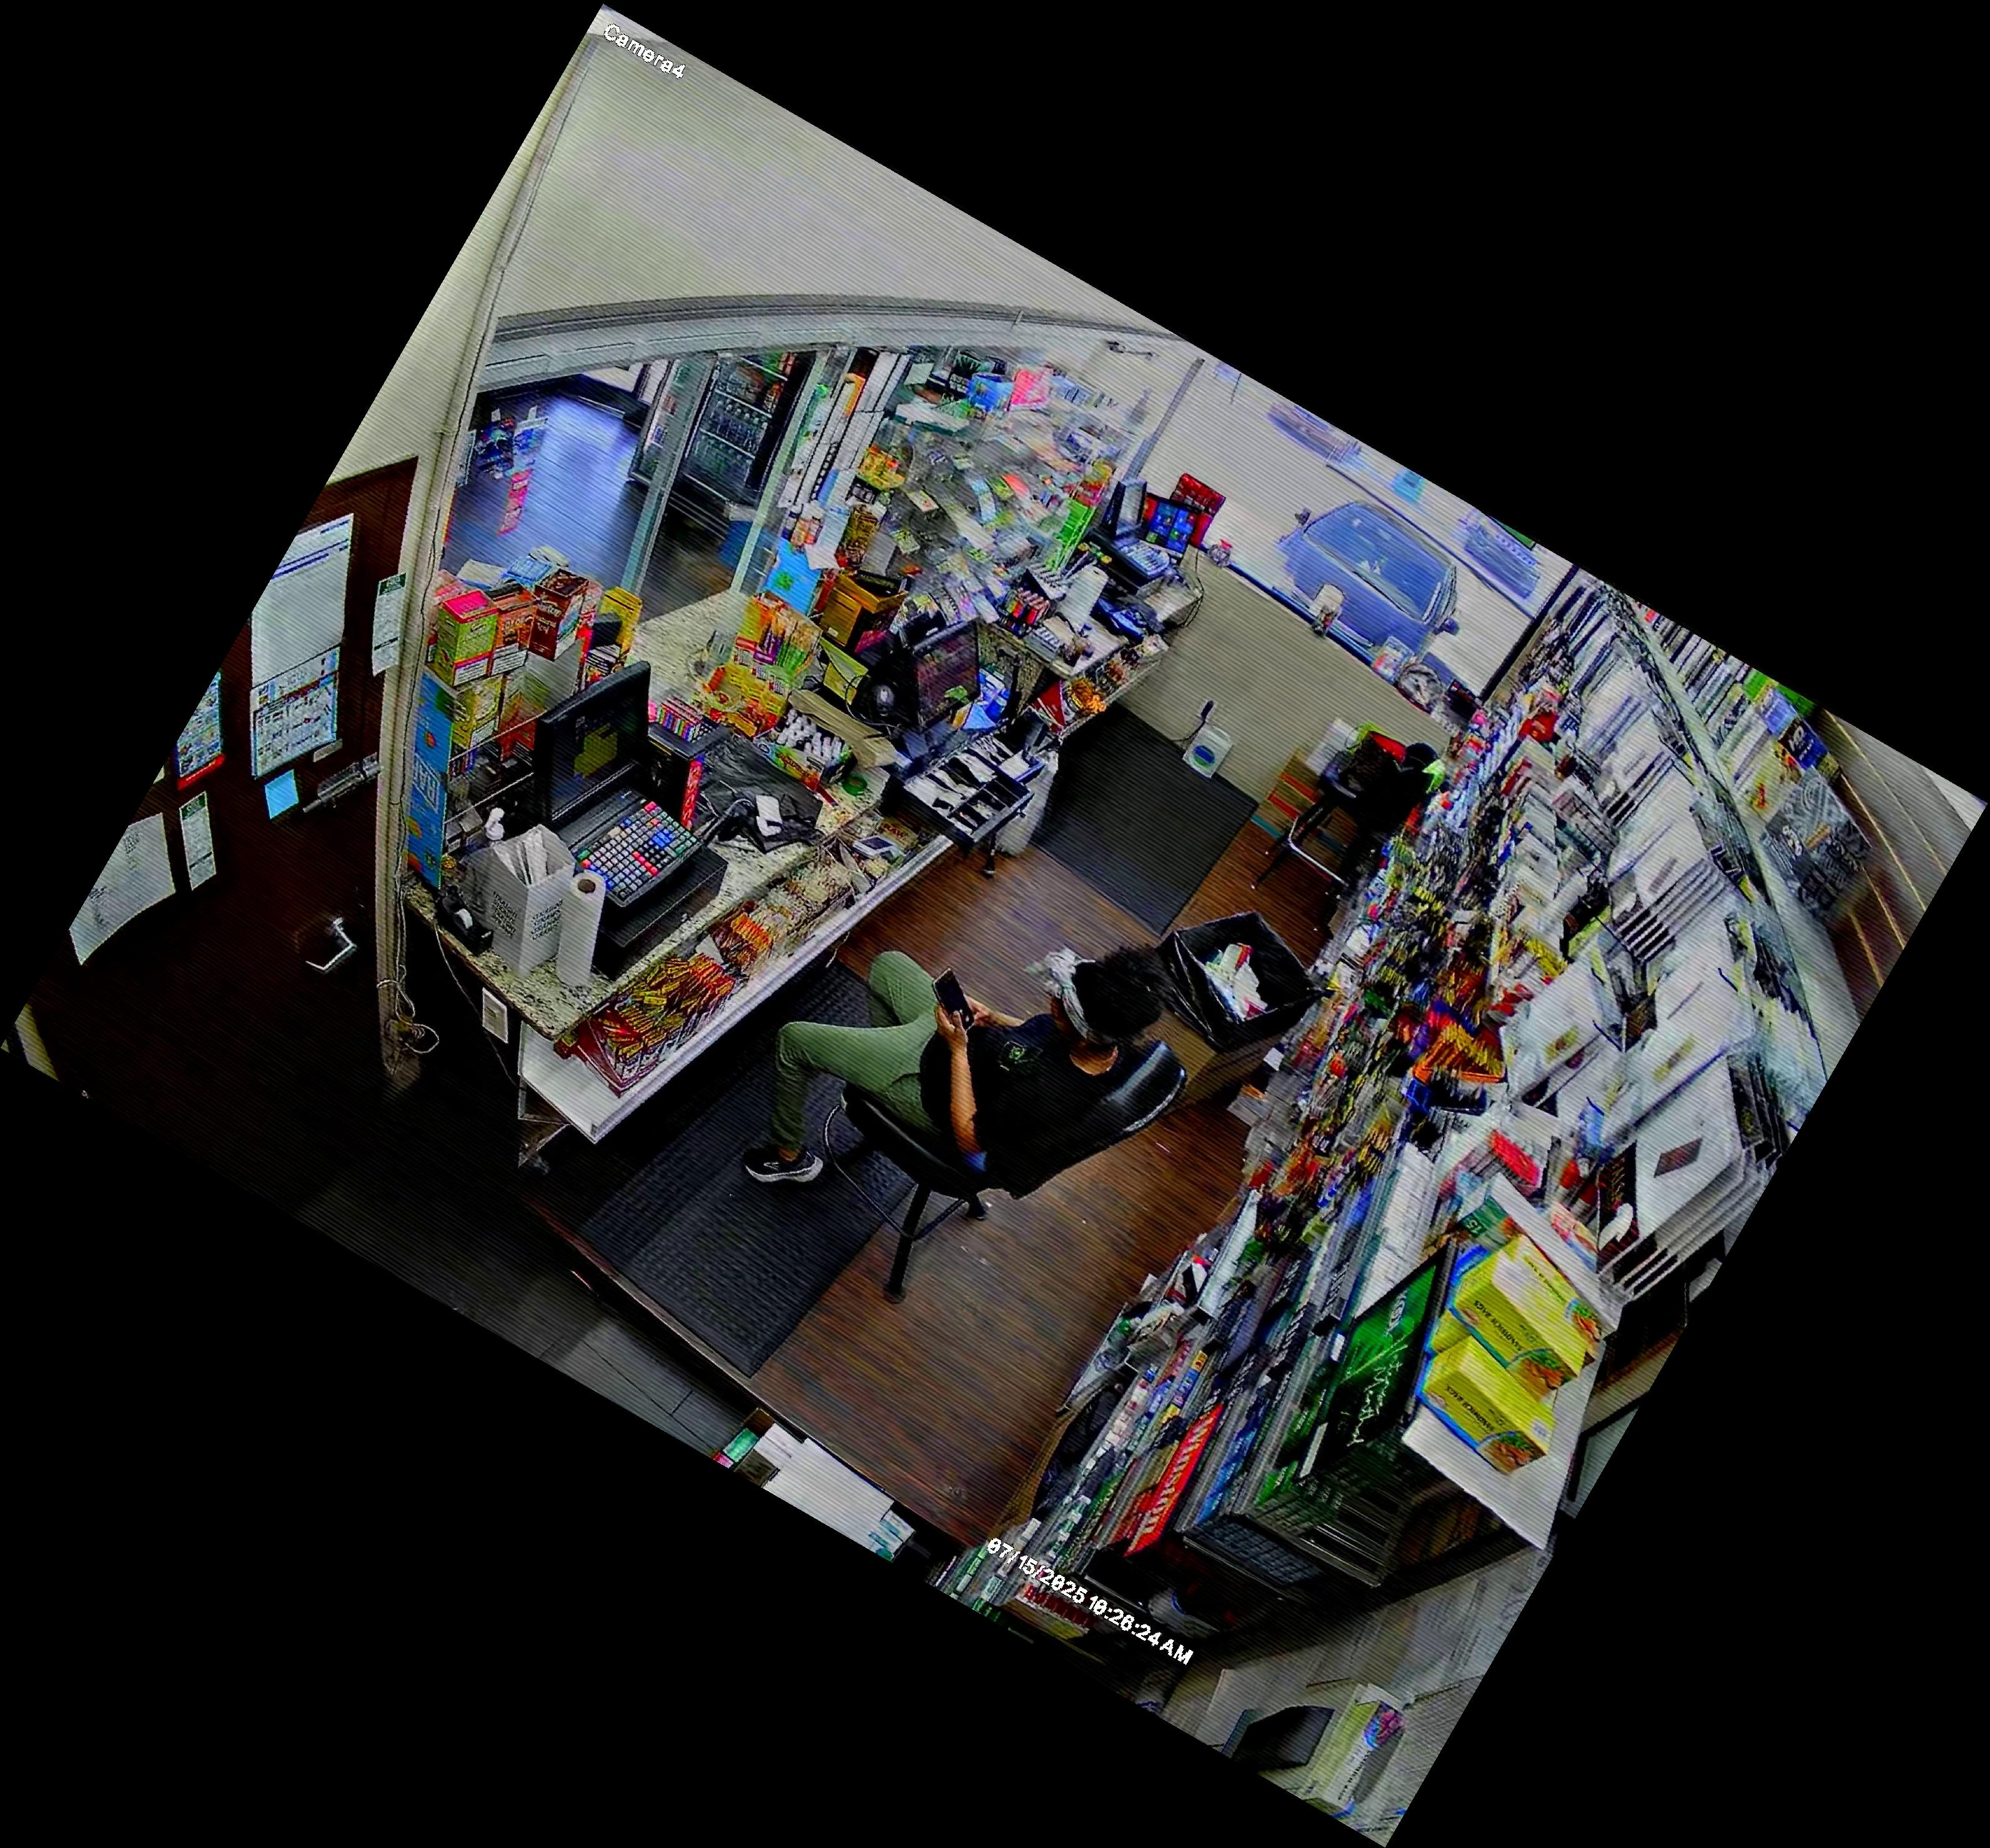phone: (919, 959, 986, 1049)
